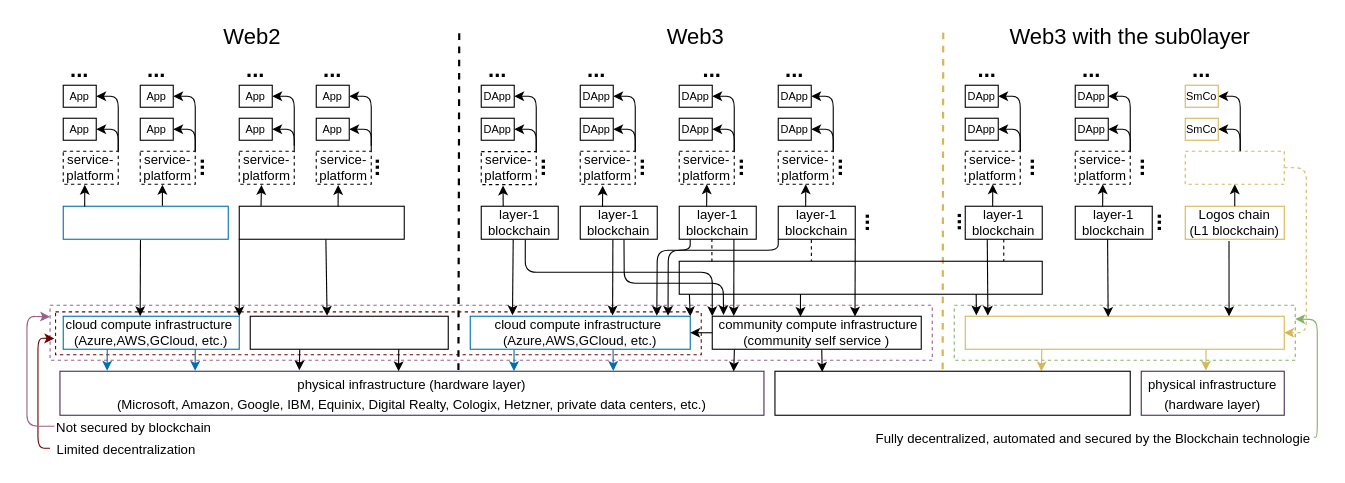
Image size: 1345x483. Some labels were removed from this diagram. Here are the shapes that lost their labels. From the top down, the centre of each, then its label:
the point at 1234,167: Smart Contract Logic for L-Net
the point at 145,222: cloud PaaS provider (Azure,AWS,GCloud, etc.)
the point at 321,222: private PaaS provider (private organisations)
the point at 860,277: layer-0 blockchains
the point at 348,332: on-prem compute infrastructure (private organisations)
the point at 1124,332: web3 compute infrastructure (sub0layer)
the point at 952,392: physical infrastructure (hardware layer) (community private devices)
